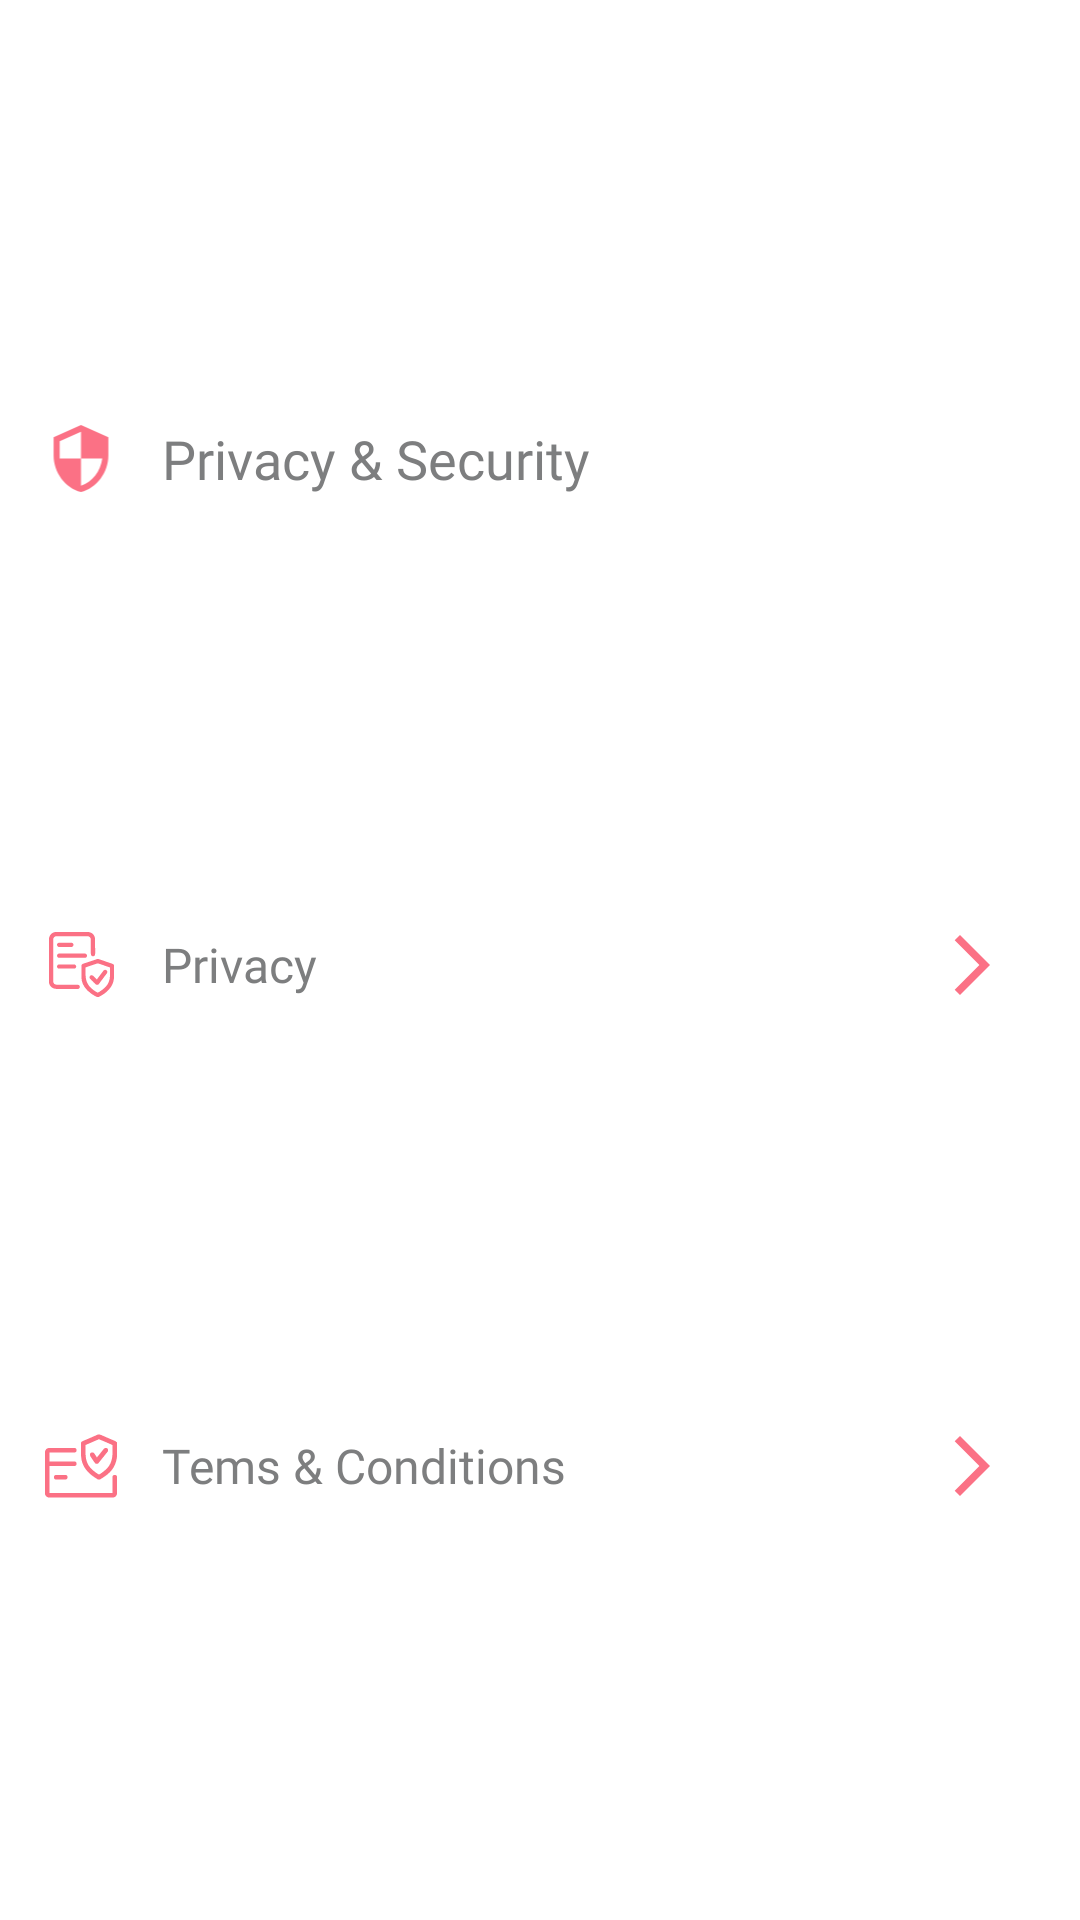

Screen size 1080x1920. Icon name, then its box in pixels as bbox=(x1, y1, x2, y2):
next: bbox=(955, 935, 990, 995), bbox=(955, 1436, 990, 1496)
